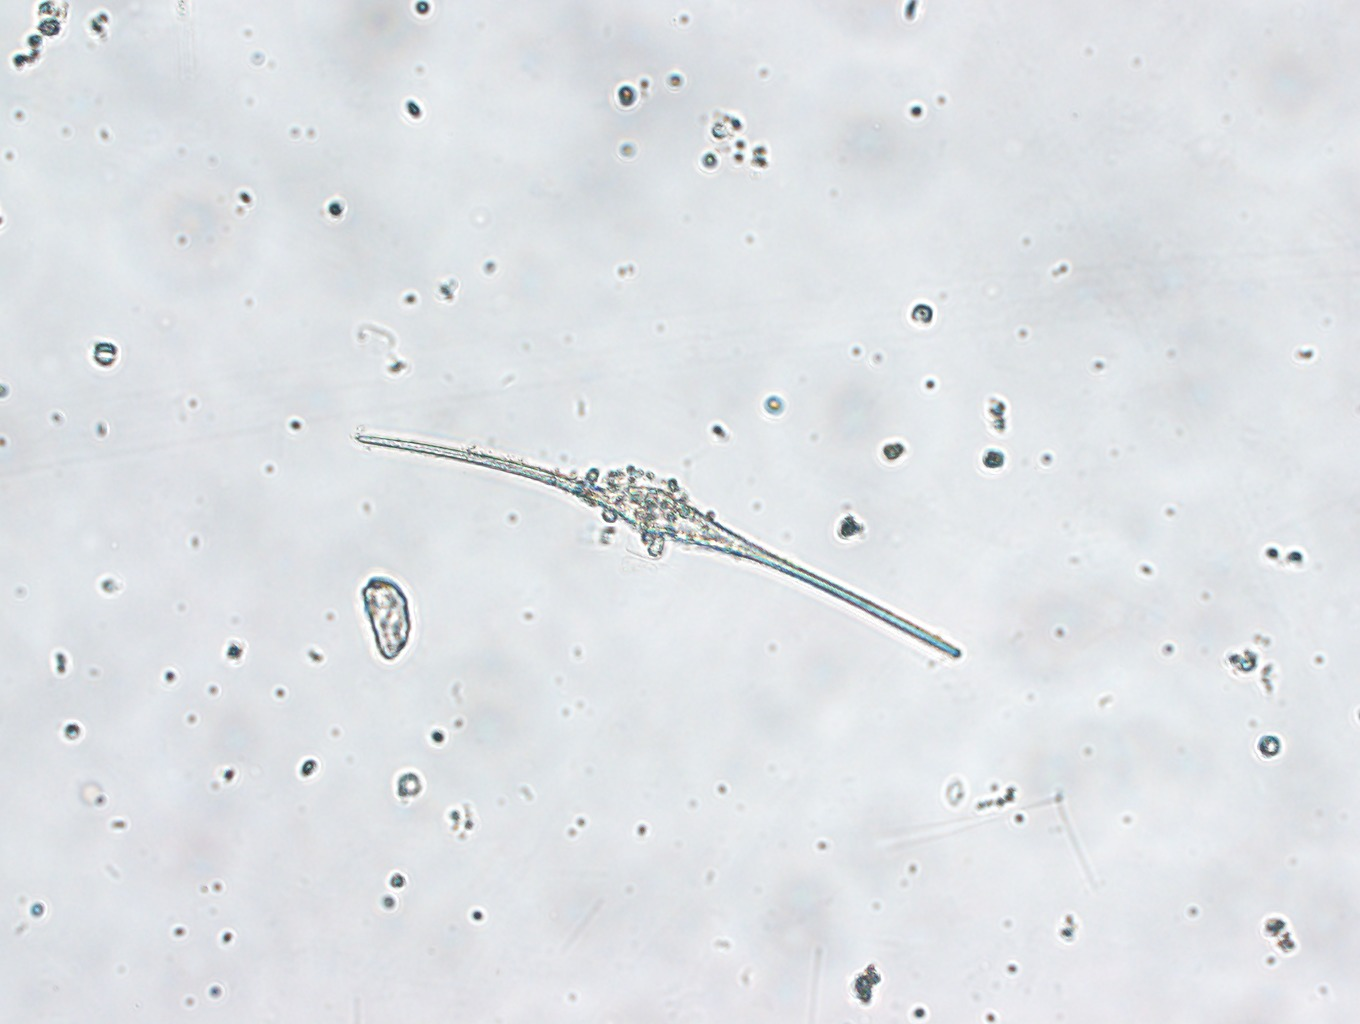ceratium fusus: (352, 419, 972, 667)
